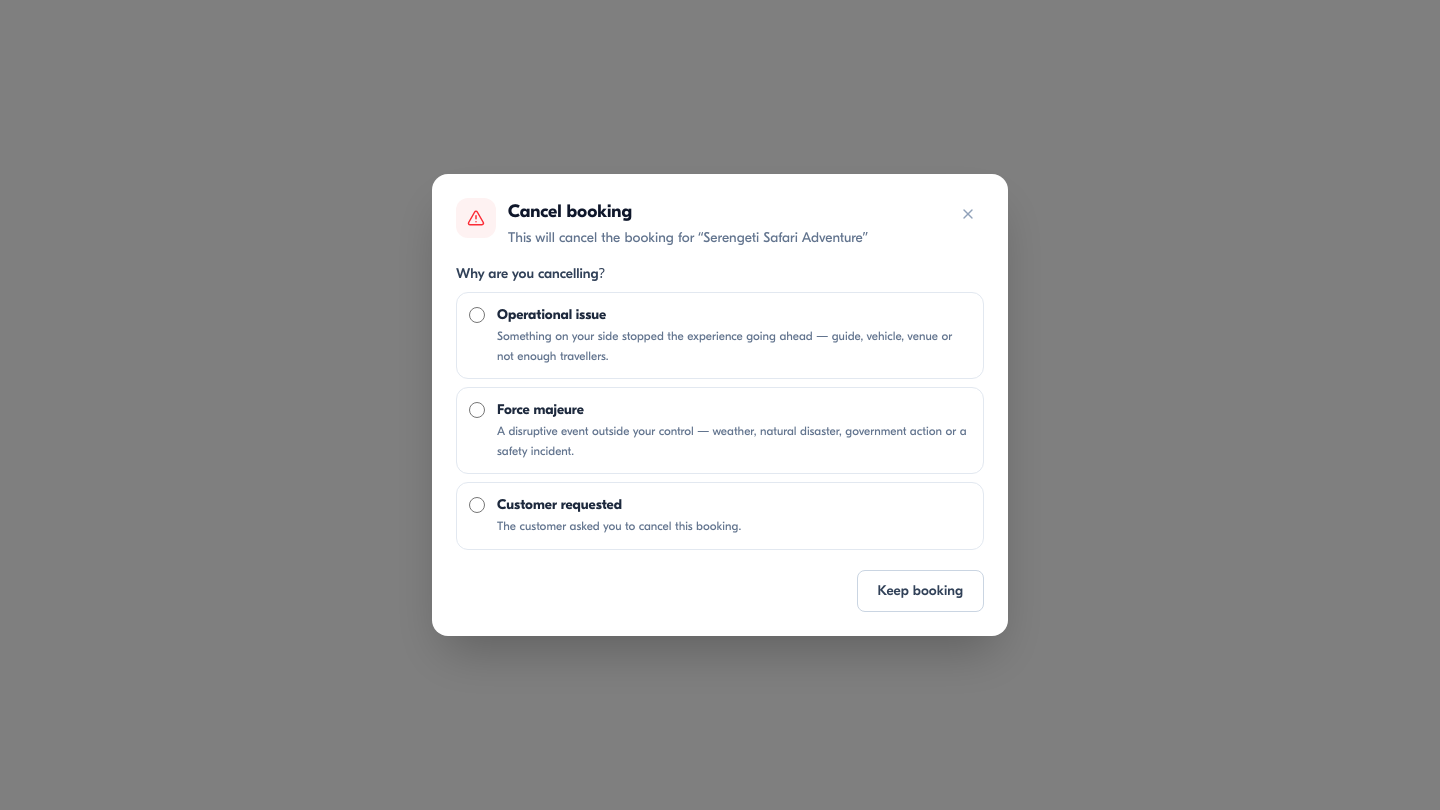
Test case: CancelBookingModal — request vs executed › keeps the existing executed success screen when a cancellation is returned
Expected: the text "Operational issue" is shown, [497,306,606,323]
Click the radio button labelled "Operational issue" at [477, 315], box [469,307,485,323]
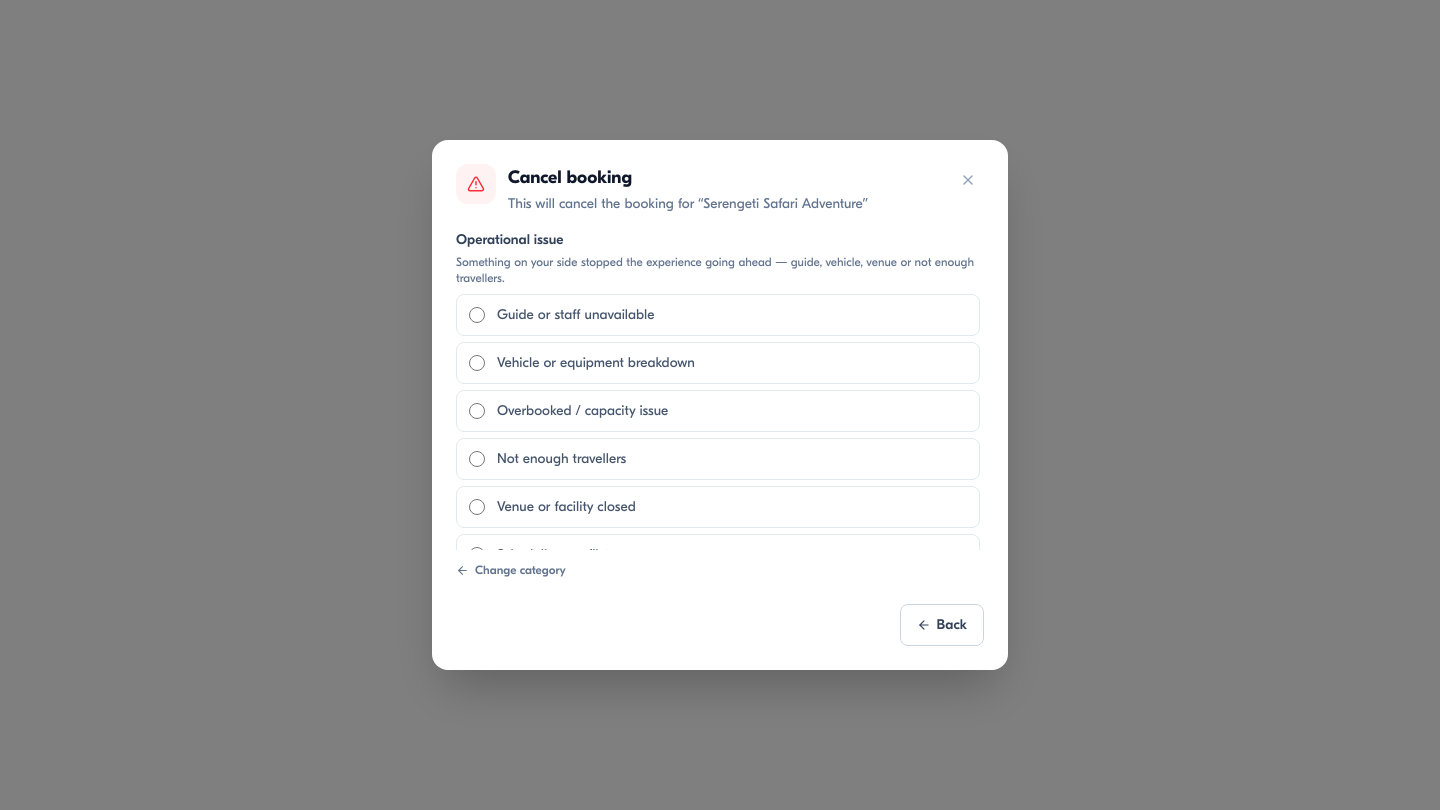
Click the radio button labelled "Guide or staff unavailable" at [477, 315], box [469,307,485,323]
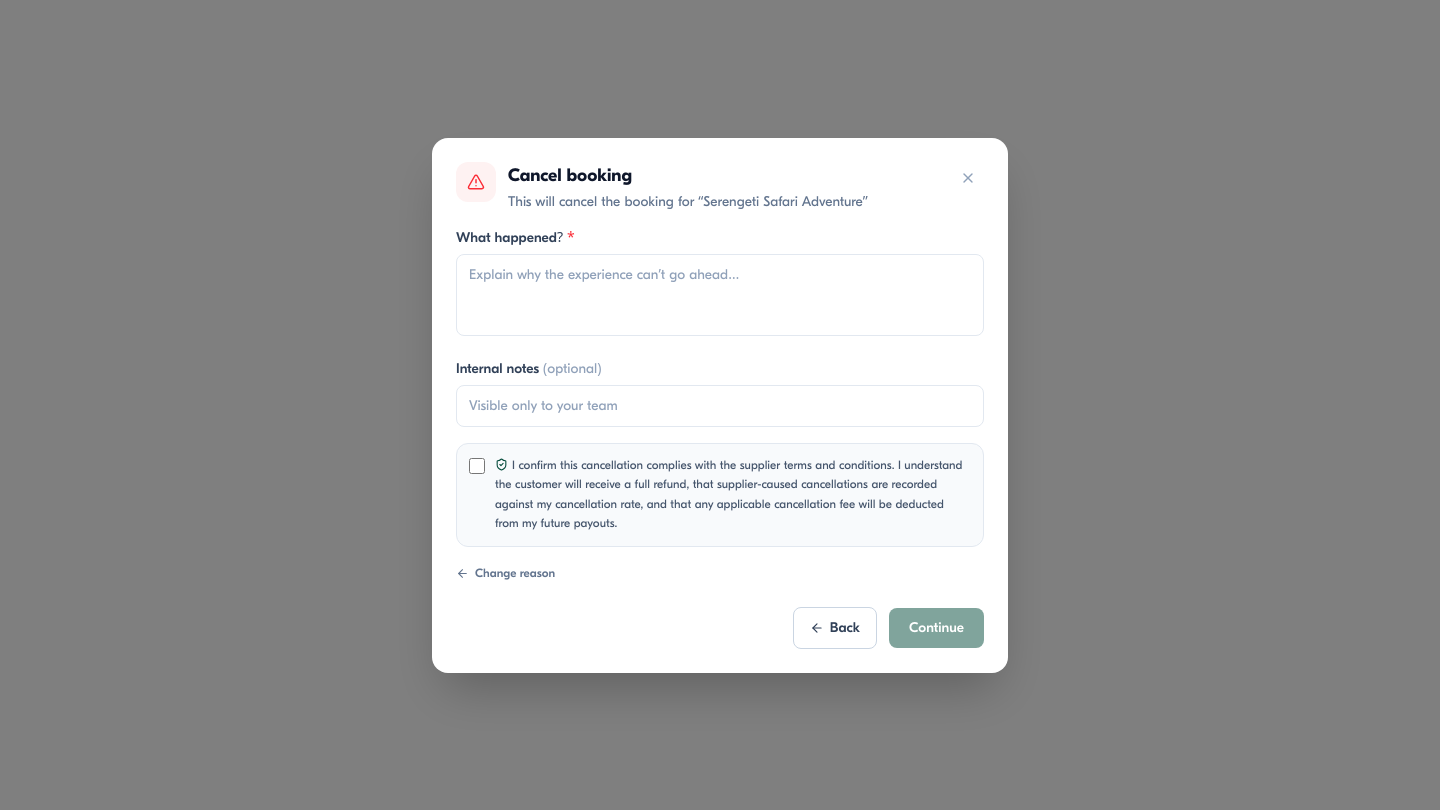
Type "Our guide fell ill and no replacement was available." into the text box labelled "What happened? *" at [720, 294], box [456,254,984,336]
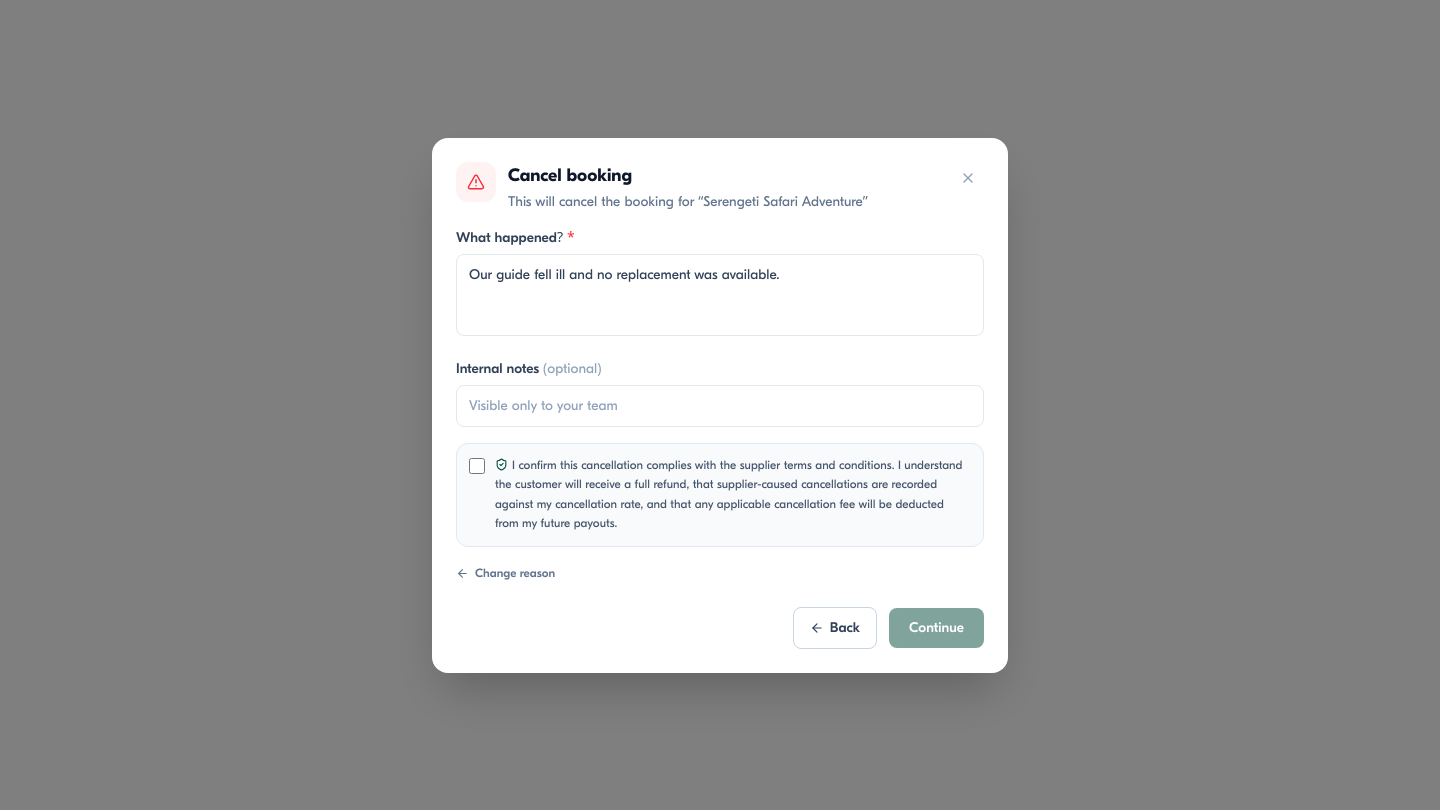
Click the checkbox at [477, 466], box [469,458,485,474]
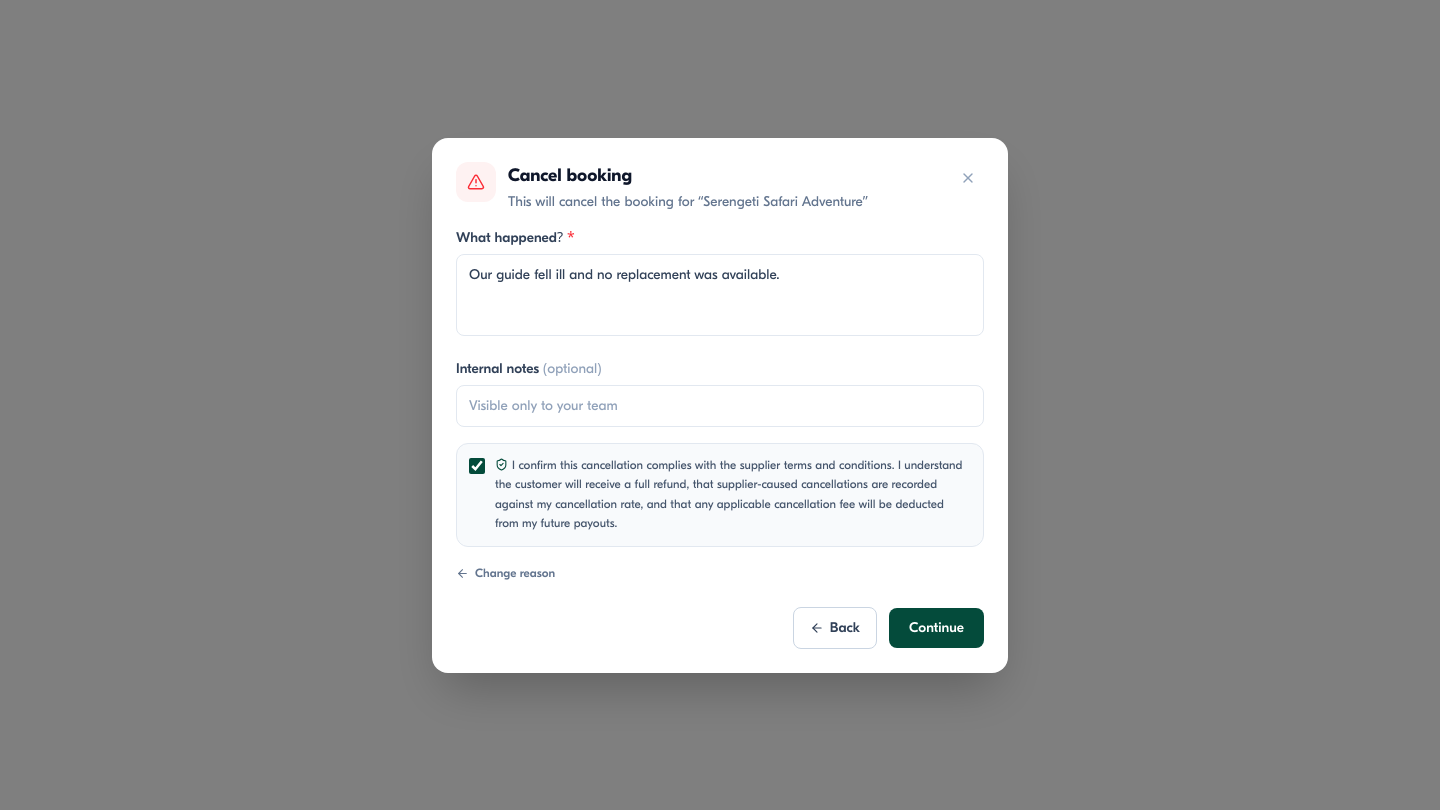
Click the button "Continue" at [937, 628], box [889,608,984,648]
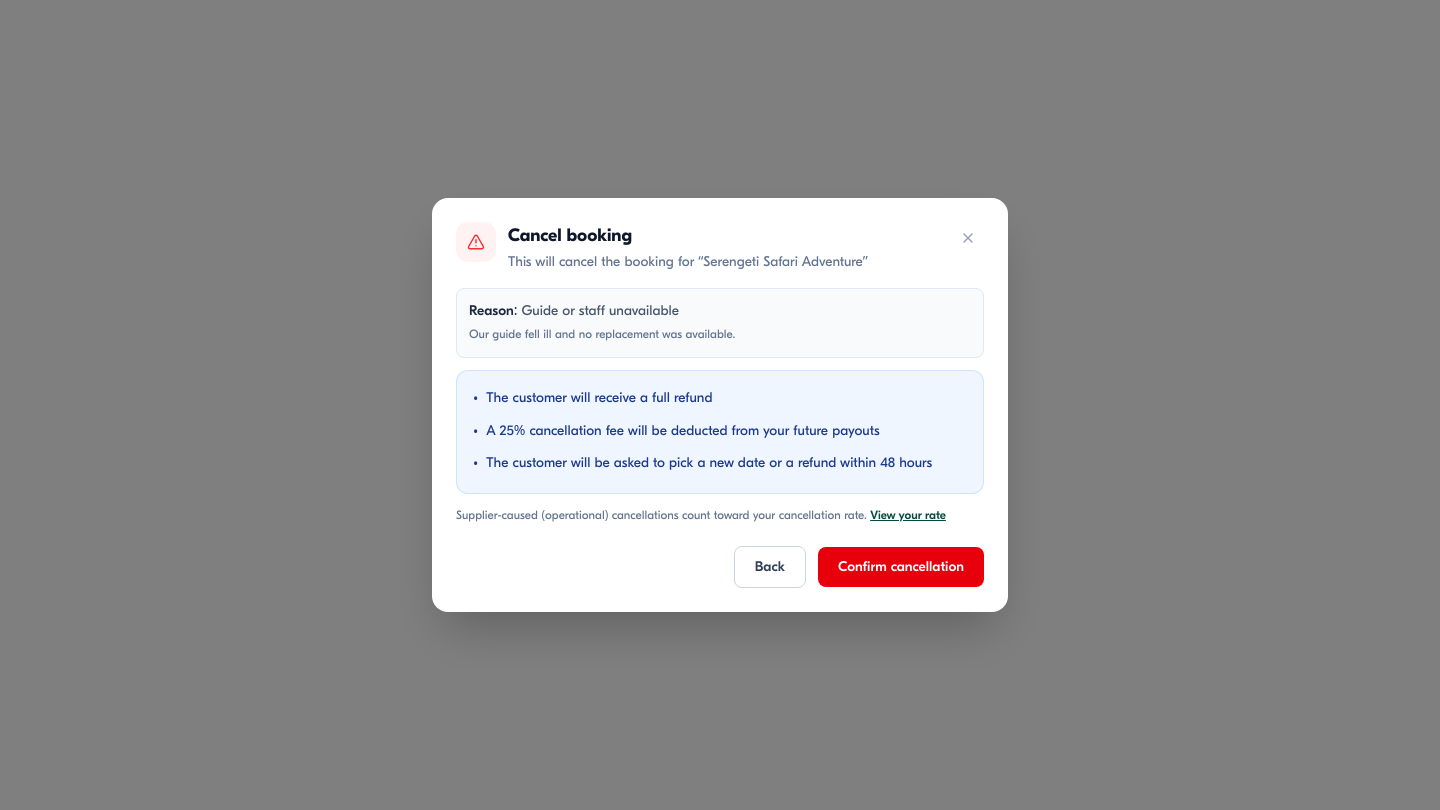
Expected: the button "Confirm cancellation" is shown
Click the button "Confirm cancellation" at [901, 567], box [818,547,984,587]
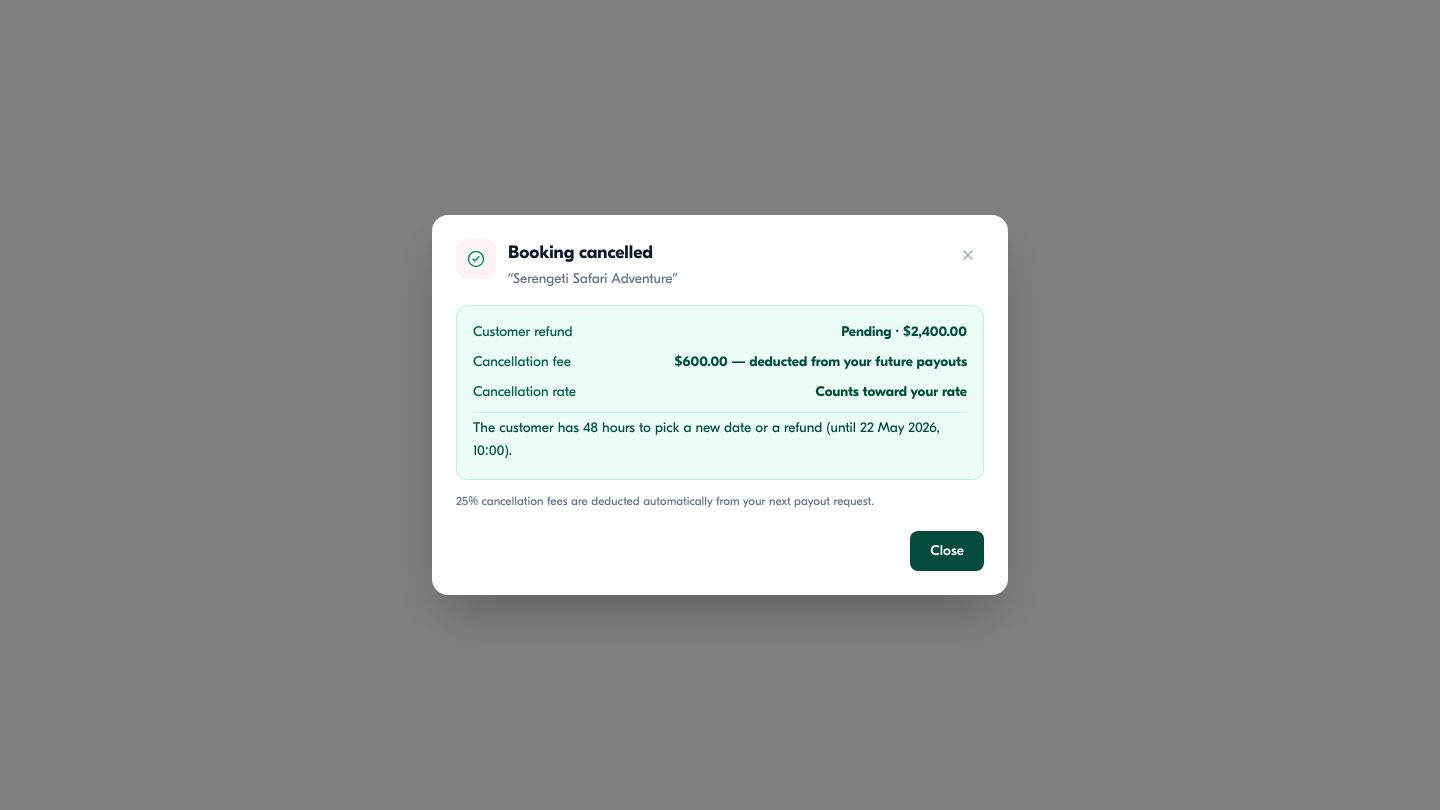
Expected: the text "Customer refund" is shown, [473,322,573,342]
Expected: the text "Cancellation fee" is shown, [473,352,571,372]
Expected: the heading "Booking cancelled" is shown, [508,239,678,267]
